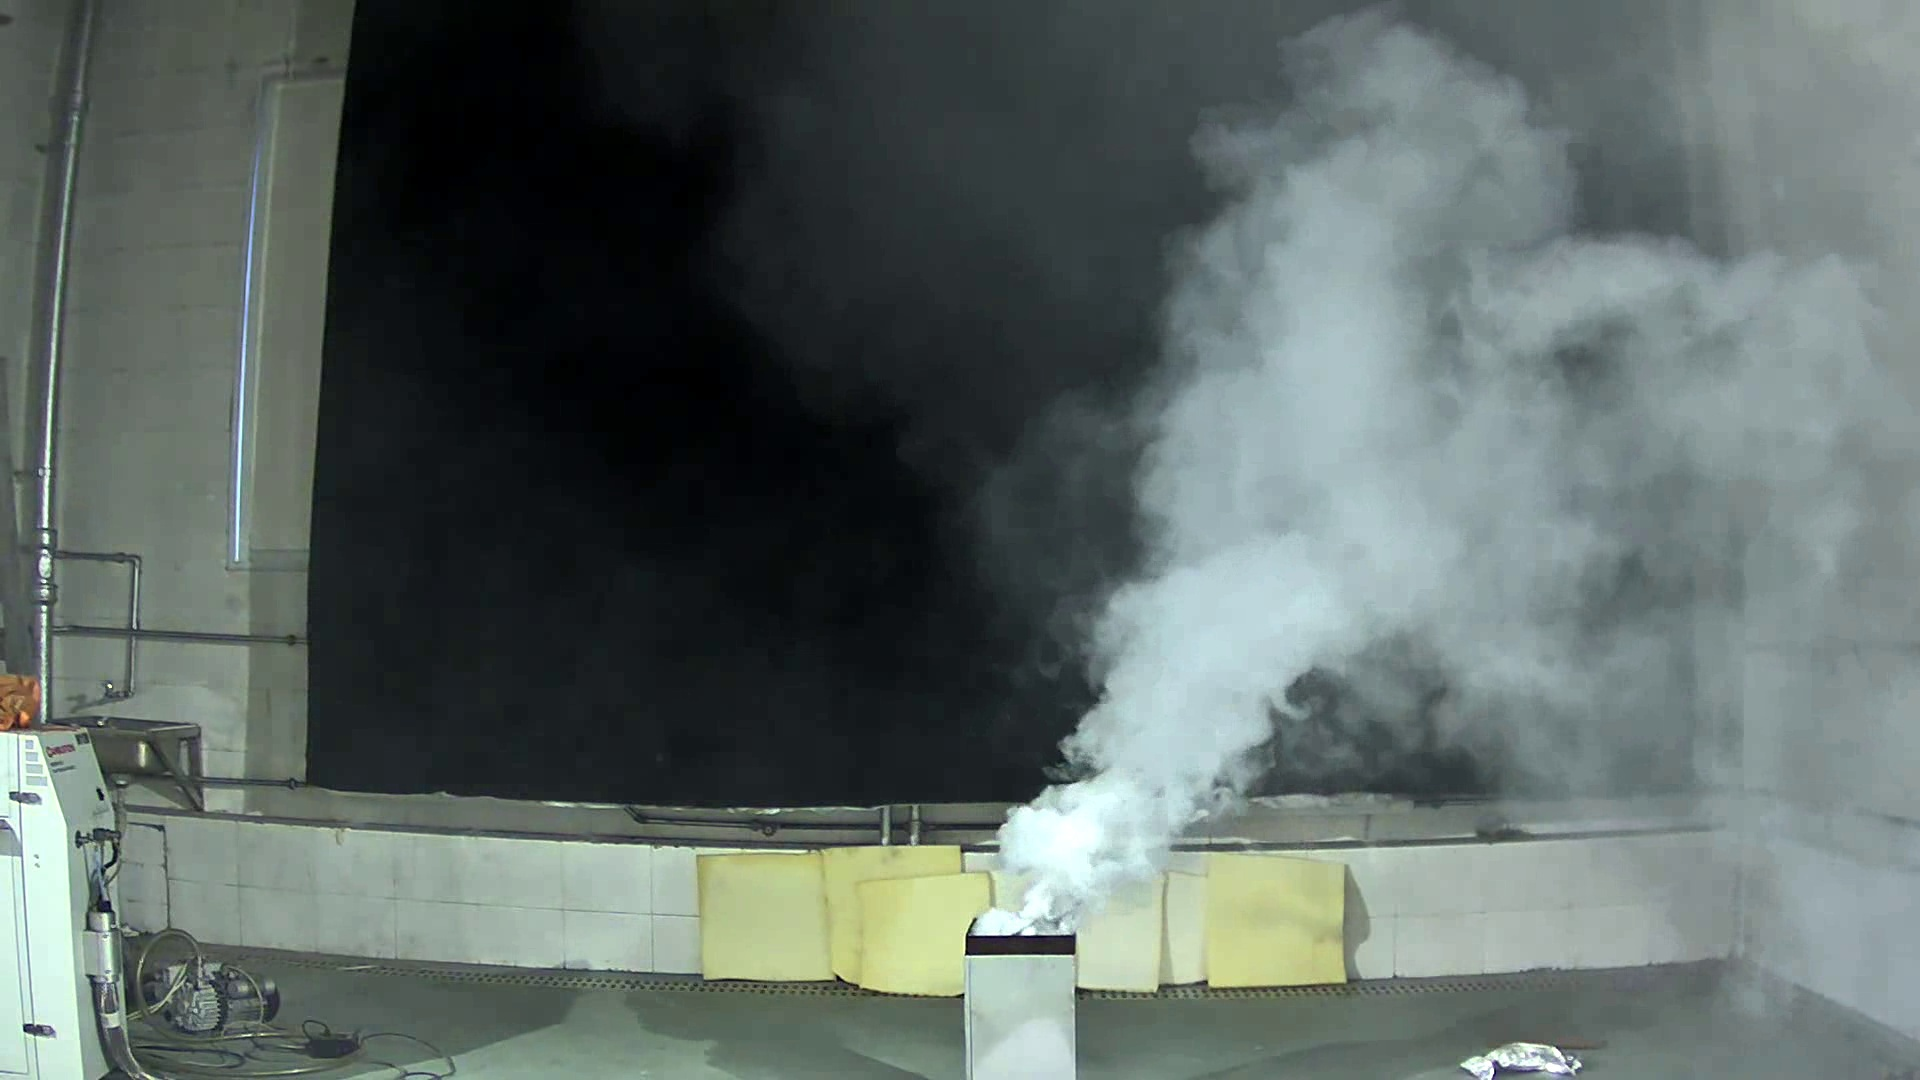smoke: (978, 32, 1871, 928)
